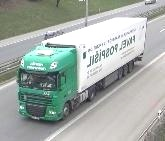truck: (17, 18, 147, 122)
